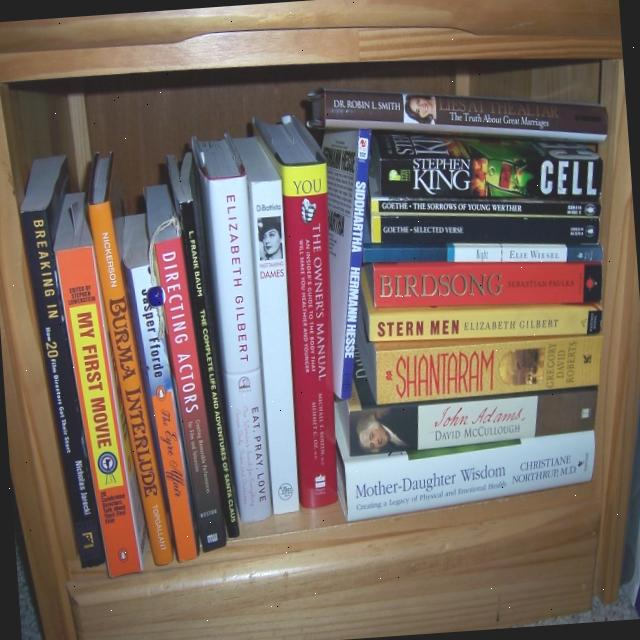book: (88, 200, 174, 561), (22, 208, 108, 567), (55, 245, 144, 580), (209, 176, 274, 518), (155, 236, 226, 547), (345, 432, 591, 515), (181, 198, 241, 535), (282, 164, 338, 505), (351, 389, 598, 453), (253, 181, 300, 514), (375, 336, 607, 401), (340, 128, 374, 405), (375, 262, 605, 301), (383, 157, 598, 198), (371, 213, 602, 244), (370, 308, 599, 338)
